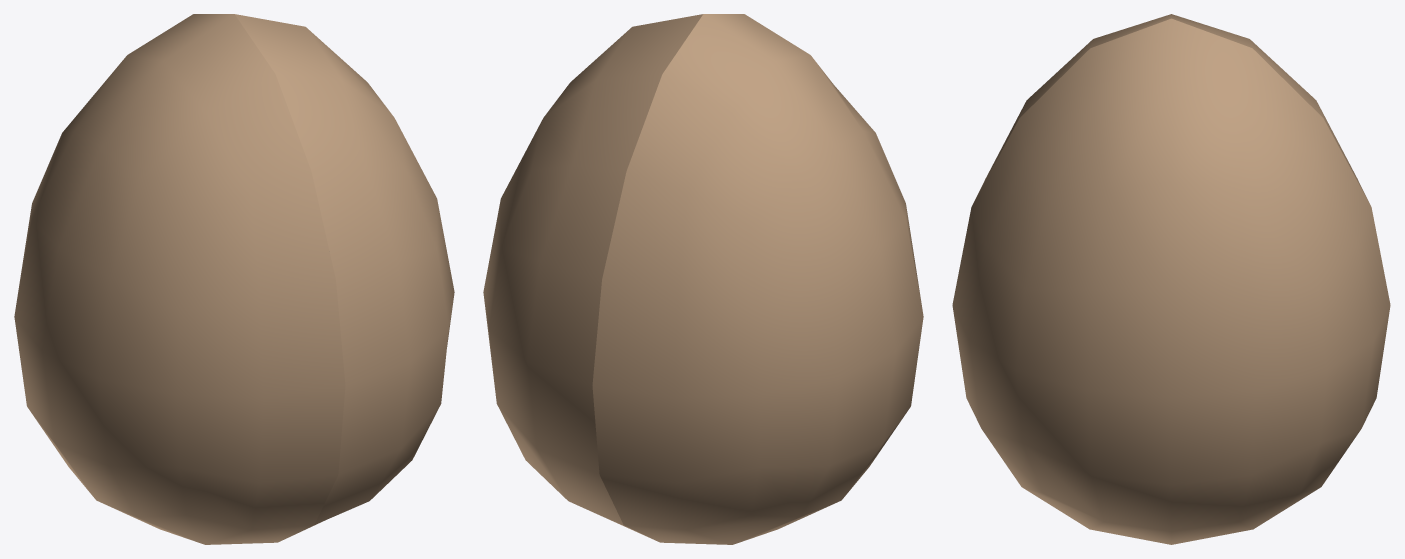
Rendered from Egg_pieces.fbx.
3 views of the same model, side by side, from view 1: azimuth 30°, elevation 25°; view 2: azimuth 150°, elevation 25°; view 3: azimuth 270°, elevation 25° (orthographic).
Visible parts, largest first — view 1: Egg_piece_1, Egg_piece_2; view 2: Egg_piece_1, Egg_piece_2; view 3: Egg_piece_2, Egg_piece_1.
Part boxes in pixels (box(x1,y1,x2,y2)): Egg_piece_1: box(14, 14, 345, 544); Egg_piece_2: box(235, 14, 454, 536); Egg_piece_1: box(592, 14, 923, 544); Egg_piece_2: box(483, 14, 702, 539); Egg_piece_2: box(952, 18, 1390, 544); Egg_piece_1: box(972, 14, 1370, 205).
Size of the model in its own units: 437 by 556 by 437.
